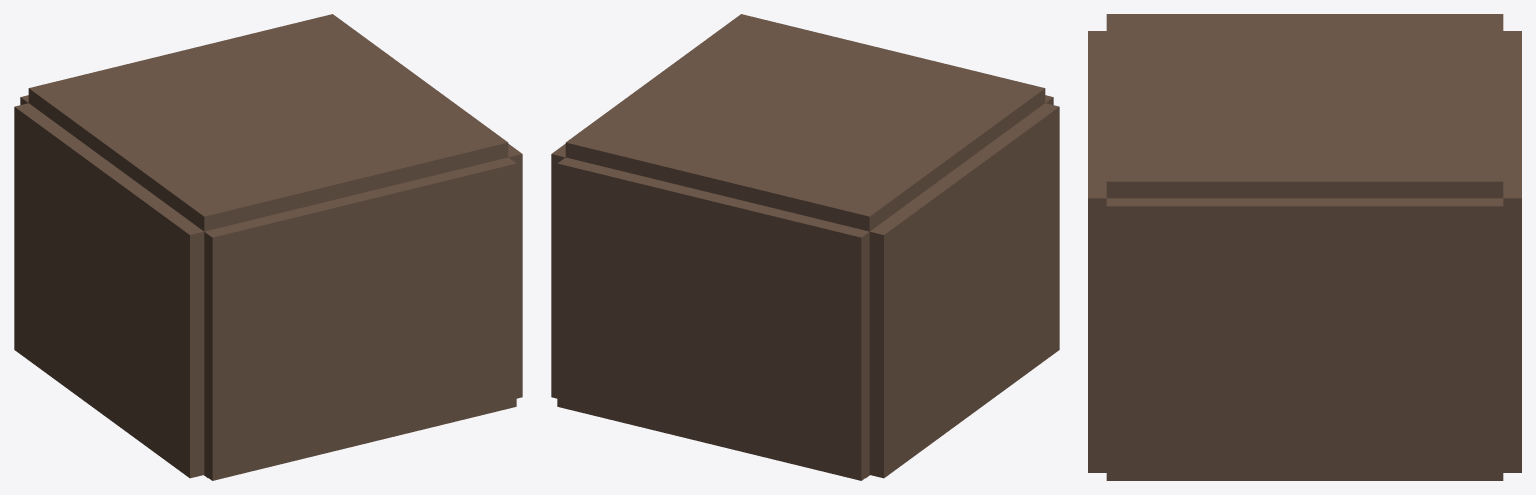
The model's file is wooden_crate_lowpoly.glb.
3 views of the same model, side by side, from view 1: azimuth 30°, elevation 25°; view 2: azimuth 150°, elevation 25°; view 3: azimuth 270°, elevation 25° (orthographic). The views are drawn at different scales.
Parts seen in each view (by area): view 1: crate_front, crate_top, crate_left, crate_right; view 2: crate_back, crate_top, crate_left, crate_right; view 3: crate_right, crate_top, crate_front, crate_back.
Boxes of the visible parts, left/top/right/bottom form: crate_front: left=204, top=157, right=516, bottom=480; crate_top: left=28, top=14, right=508, bottom=231; crate_left: left=14, top=103, right=204, bottom=478; crate_right: left=508, top=144, right=522, bottom=398; crate_back: left=557, top=157, right=869, bottom=480; crate_top: left=565, top=14, right=1045, bottom=231; crate_left: left=869, top=103, right=1059, bottom=478; crate_right: left=551, top=144, right=565, bottom=398; crate_right: left=1106, top=198, right=1503, bottom=480; crate_top: left=1106, top=14, right=1503, bottom=198; crate_front: left=1088, top=31, right=1106, bottom=472; crate_back: left=1503, top=31, right=1521, bottom=472.
Bounding box in the file's own units: 0.93 × 0.715 × 0.93.
